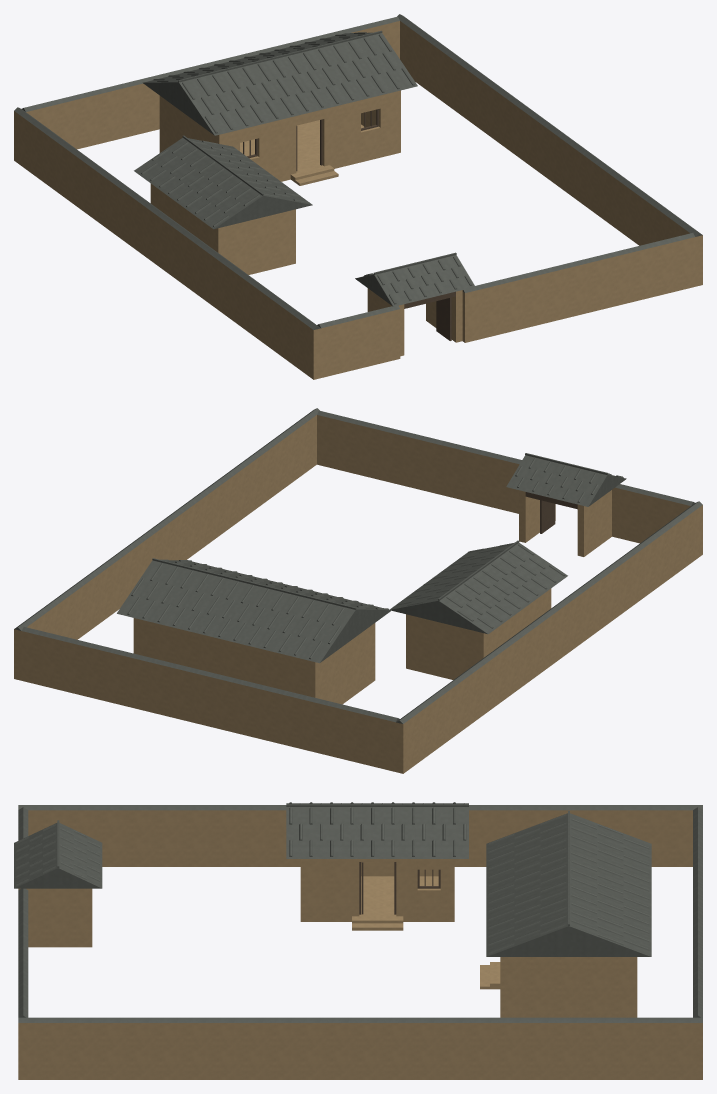
Rendered from court-A2-LOD1.glb.
The picture shows the model from 3 angles, top to bottom: view 1: azimuth 30°, elevation 25°; view 2: azimuth 150°, elevation 25°; view 3: azimuth 270°, elevation 25°; orthographic projection. The views are drawn at different scales.
Parts seen in each view (by area): view 1: court-A2-static_earth, court-A2-static_tile, court-A2-static_timber; view 2: court-A2-static_earth, court-A2-static_tile, court-A2-static_timber; view 3: court-A2-static_earth, court-A2-static_tile, court-A2-static_timber.
Boxes of the visible parts, x1,y1,x2,y2 form: court-A2-static_earth: (14,21,702,379); court-A2-static_tile: (14,14,702,329); court-A2-static_timber: (243,109,455,340); court-A2-static_earth: (14,415,702,773); court-A2-static_tile: (14,408,702,723); court-A2-static_timber: (525,492,577,533); court-A2-static_earth: (18,810,702,1079); court-A2-static_tile: (14,802,702,1022); court-A2-static_timber: (359,862,440,914).
Bounding box in the file's own units: 18 × 4.29 × 24.15.
3 materials, 3 textured.
